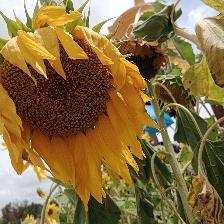sunflower: (2, 29, 151, 204)
